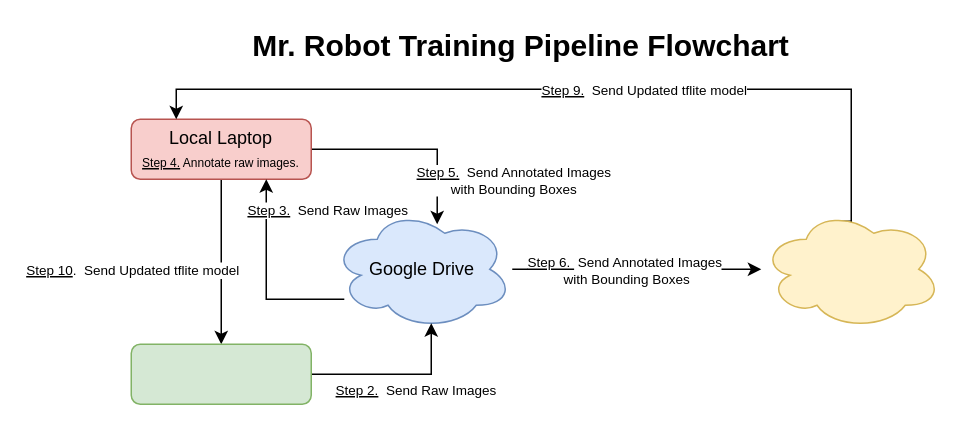
The diagram is 968 pixels wide and 432 high, and some of its shapes have lost their labels. The box of each missing label's shape, as (x1, y1, x2, y2) in pixels:
Google Colab Step 7. Train models Step 8. Evaluate models: (760, 208, 941, 329)
Raspberry PI Step 1. Create training images. Step 11. Inference with model.: (130, 343, 311, 404)
